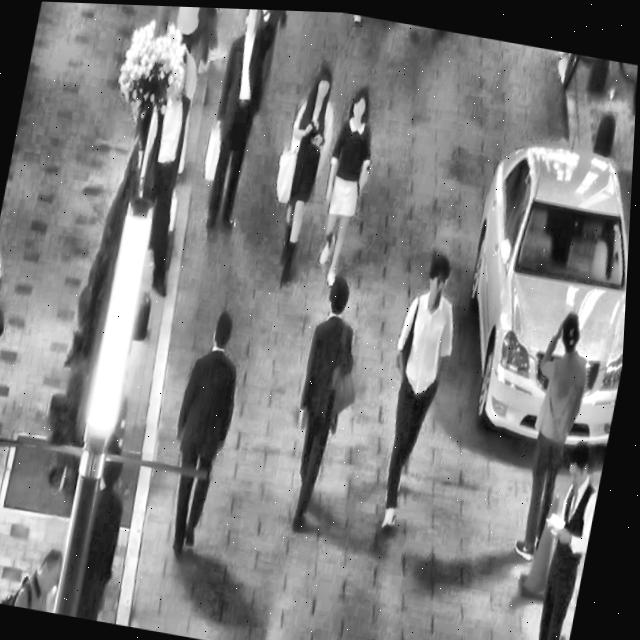light_vehicle: (438, 110, 636, 460)
